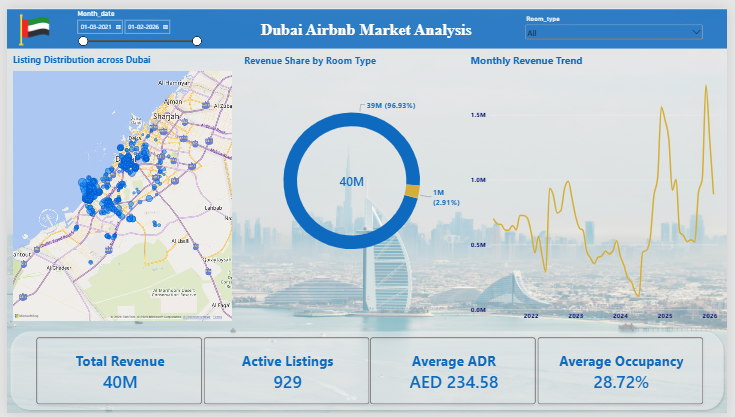

The dashboard page shown, as its layout file describes it:
{"tool":"powerbi","page":{"name":"Executive","canvas":[1920,1080],"ordinal":0},"visuals":[{"type":"image","box":[0,0,1920,1080],"z":0},{"type":"shape","box":[0,3.3,1920,105],"z":1000},{"type":"textbox","box":[457.5,32.5,1002.5,57.5],"z":2000},{"type":"slicer","fields":{"Values":["listings_clean.room_type"]},"box":[1376.7,16.7,483.3,90],"z":3000},{"type":"slicer","fields":{"Values":["listings_clean.month_date"]},"box":[180,2.5,342.5,150],"z":4000},{"type":"shape","box":[0,852.5,1920,227.5],"z":5000},{"type":"cardVisual","fields":{"Data":["listings_clean.Total Revenue"]},"box":[77.5,875,445,182.5],"z":6000},{"type":"cardVisual","fields":{"Data":["listings_clean.Active Listings"]},"box":[522.5,875,445,182.5],"z":7000},{"type":"cardVisual","fields":{"Data":["listings_clean.Average ADR"]},"box":[967.5,875,445,182.5],"z":8000},{"type":"cardVisual","fields":{"Data":["listings_clean.Average Occupancy"]},"box":[1412.5,875,445,182.5],"z":9000},{"type":"donutChart","title":"Revenue Share by Room Type","fields":{"Category":["listings_clean.room_type"],"Y":["listings_clean.Total Revenue"]},"box":[615,107.5,605,660],"z":10000},{"type":"lineChart","title":"Monthly Revenue Trend","fields":{"Category":["listings_clean.month_date"],"Y":["listings_clean.Total Revenue"]},"box":[1220,107.5,700,745],"z":11000},{"type":"map","title":"Listing Distribution across Dubai","fields":{"Size":["listings_clean.Total Revenue"],"X":["listings_clean.longitude"],"Y":["listings_clean.latitude"]},"box":[0,107.5,615,745],"z":12000},{"type":"image","box":[0,17.5,146.7,83.3],"z":13000}]}

Visuals, with their boxes in screenshot pixels (x1, y1, x2, y2), scaled from the page's 1920x1080 canvas onto the 735x417 screenshot:
image: Rect(0, 0, 734, 416)
shape: Rect(0, 1, 734, 42)
textbox: Rect(175, 13, 559, 35)
slicer - listings_clean.room_type: Rect(527, 6, 712, 41)
slicer - listings_clean.month_date: Rect(69, 1, 200, 59)
shape: Rect(0, 329, 734, 416)
cardVisual - listings_clean.Total Revenue: Rect(30, 338, 200, 408)
cardVisual - listings_clean.Active Listings: Rect(200, 338, 370, 408)
cardVisual - listings_clean.Average ADR: Rect(370, 338, 541, 408)
cardVisual - listings_clean.Average Occupancy: Rect(541, 338, 711, 408)
"Revenue Share by Room Type" donutChart: Rect(235, 42, 467, 296)
"Monthly Revenue Trend" lineChart: Rect(467, 42, 734, 329)
"Listing Distribution across Dubai" map: Rect(0, 42, 235, 329)
image: Rect(0, 7, 56, 39)
